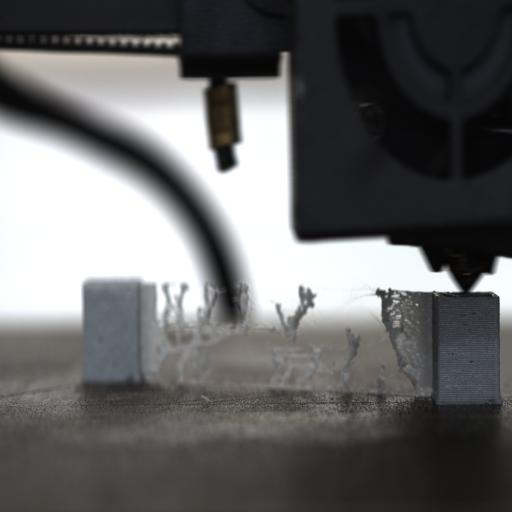stringing: (376, 288, 428, 394), (272, 283, 318, 340), (338, 328, 362, 394), (230, 279, 252, 328)
